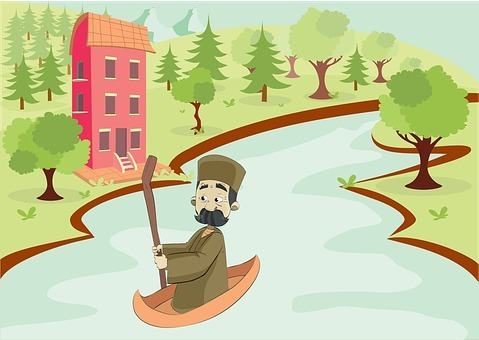boat: (132, 254, 263, 328)
person: (153, 152, 249, 315)
